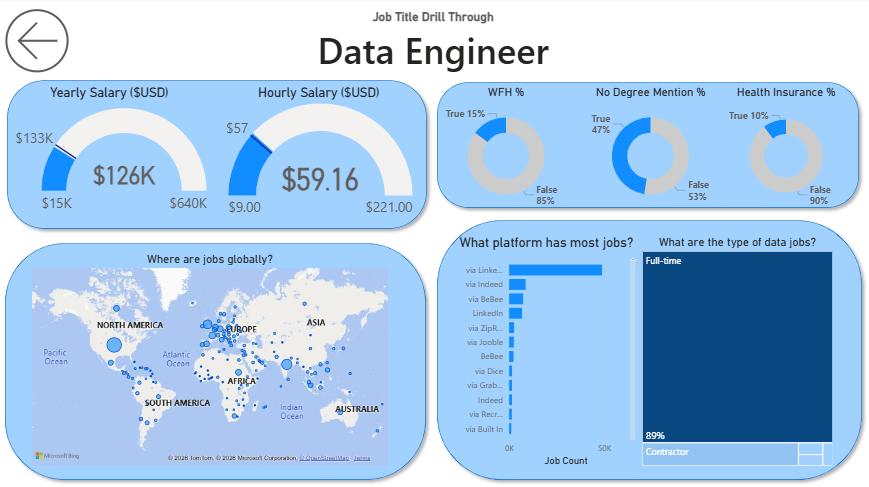

What the dashboard file says about the page in this screenshot:
{"tool":"powerbi","page":{"name":"Job Title Drill Through","canvas":[1280,720],"ordinal":1},"visuals":[{"type":"group","id":"g1","title":"Background","box":[1,113.1,1276.9,605.2],"z":500},{"type":"cardVisual","fields":{"Data":["Min(job_postings_flat.job_title_short)1"]},"box":[338,0,603.9,129.3],"z":1000},{"type":"actionButton","box":[0,0,114.6,129.3],"z":2000},{"type":"shape","box":[636.5,115.6,637.7,202.8],"z":2000,"group":"g1"},{"type":"shape","box":[4.2,113.1,634.8,236.6],"z":3000,"group":"g1"},{"type":"gauge","title":"Yearly Salary ($USD)","fields":{"Y":["Median(job_postings_flat.salary_year_avg)"],"MinValue":["Min(job_postings_flat.salary_year_avg)1"],"MaxValue":["Max(job_postings_flat.salary_year_avg)2"],"TargetValue":["Avg(job_postings_flat.salary_year_avg)3"]},"box":[14.7,129.3,296.8,204.2],"z":3000},{"type":"gauge","title":"Hourly Salary ($USD)","fields":{"MinValue":["Min(job_postings_flat.salary_hour_avg)1"],"MaxValue":["Max(job_postings_flat.salary_hour_avg)2"],"TargetValue":["Avg(job_postings_flat.salary_hour_avg)3"],"Y":["Median(job_postings_flat.salary_hour_avg)"]},"box":[311.5,129.3,318.9,204.2],"z":4000},{"type":"shape","box":[1,352.4,636.2,365.9],"z":4000,"group":"g1"},{"type":"donutChart","title":"WFH %","fields":{"Category":["job_postings_flat.job_work_from_home"],"Y":["CountNonNull(job_postings_flat.job_work_from_home)"]},"box":[640.7,129.3,211.6,189.6],"z":5000},{"type":"shape","box":[635.8,318.6,642.1,399.7],"z":5000,"group":"g1"},{"type":"donutChart","title":"No Degree Mention %","fields":{"Category":["job_postings_flat.job_no_degree_mention"],"Y":["CountNonNull(job_postings_flat.job_no_degree_mention)"]},"box":[852.2,129.3,213.1,189.6],"z":6000},{"type":"donutChart","title":"Health Insurance %","fields":{"Category":["job_postings_flat.job_health_insurance"],"Y":["CountNonNull(job_postings_flat.job_health_insurance)"]},"box":[1065.3,129.3,185.1,189.6],"z":7000},{"type":"map","title":"Where are jobs globally?","fields":{"Category":["job_postings_flat.job_country"],"Size":["CountNonNull(job_postings_flat.job_title_short)"]},"box":[45.6,374.7,531.9,318.9],"z":8000},{"type":"treemap","title":"What are the type of data jobs?","fields":{"Group":["job_postings_flat.job_schedule_type"],"Values":["CountNonNull(job_postings_flat.job_schedule_type)"]},"box":[941.9,349.7,289.5,343.8],"z":9000},{"type":"barChart","title":"What platform has most jobs?","fields":{"Category":["job_postings_flat.job_via"],"Y":["CountNonNull(job_postings_flat.job_via)"]},"box":[670,349.7,271.8,343.8],"z":10000}]}

Visuals, with their boxes in screenshot pixels (x1, y1, x2, y2), scaled from the page's 1280x720 canvas onto the 869x487 screenshot:
"Background" group: [1, 76, 868, 486]
cardVisual - Min(job_postings_flat.job_title_short)1: [229, 0, 639, 87]
actionButton: [0, 0, 78, 87]
shape: [432, 78, 865, 215]
shape: [3, 76, 434, 237]
"Yearly Salary ($USD)" gauge: [10, 87, 211, 226]
"Hourly Salary ($USD)" gauge: [211, 87, 428, 226]
shape: [1, 238, 433, 486]
"WFH %" donutChart: [435, 87, 579, 216]
shape: [432, 215, 868, 486]
"No Degree Mention %" donutChart: [579, 87, 723, 216]
"Health Insurance %" donutChart: [723, 87, 849, 216]
"Where are jobs globally?" map: [31, 253, 392, 469]
"What are the type of data jobs?" treemap: [639, 237, 836, 469]
"What platform has most jobs?" barChart: [455, 237, 639, 469]
